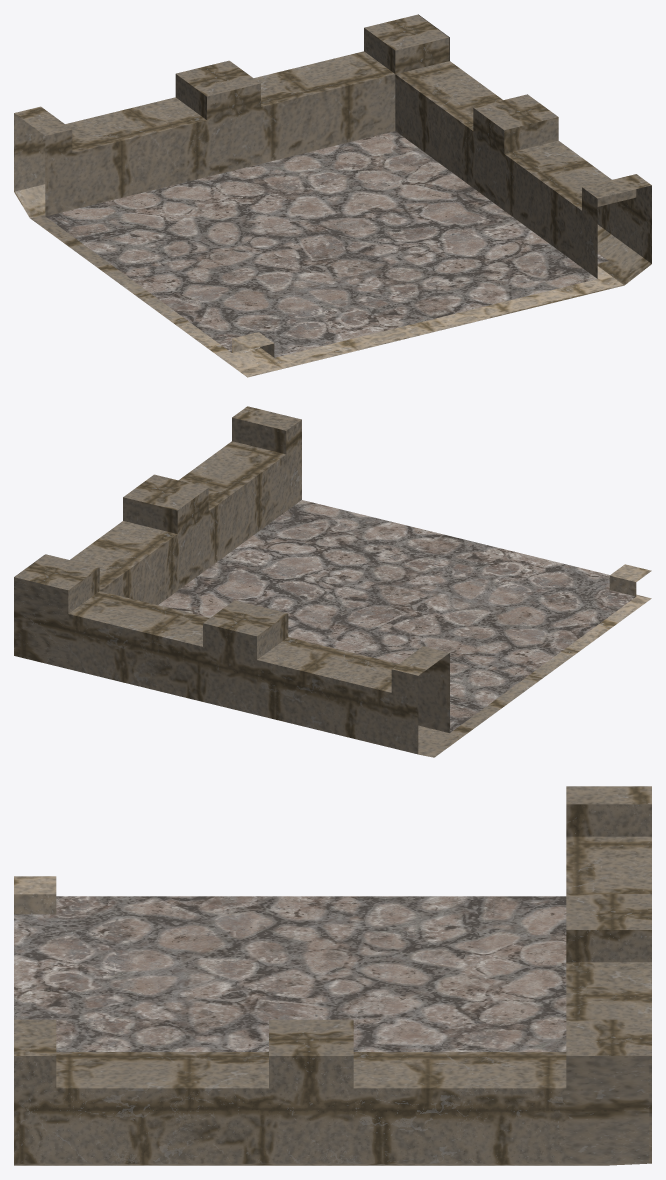
The model's file is ModuleRoofCorner.fbx.
3 views of the same model, one above another, from view 1: azimuth 30°, elevation 25°; view 2: azimuth 150°, elevation 25°; view 3: azimuth 270°, elevation 25° (orthographic). The views are drawn at different scales.
Parts seen in each view (by area): view 1: ModuleRoofFloorTileCorner, ModuleRoofCorner, ModuleRoofFloorEdgeCorner; view 2: ModuleRoofCorner, ModuleRoofFloorTileCorner, ModuleRoofFloorEdgeCorner; view 3: ModuleRoofCorner, ModuleRoofFloorTileCorner.
Boxes of the visible parts, bbox=[...] form: ModuleRoofFloorTileCorner: bbox=[45, 131, 608, 357]; ModuleRoofCorner: bbox=[14, 14, 651, 357]; ModuleRoofFloorEdgeCorner: bbox=[30, 214, 623, 377]; ModuleRoofCorner: bbox=[14, 406, 651, 756]; ModuleRoofFloorTileCorner: bbox=[158, 500, 635, 732]; ModuleRoofFloorEdgeCorner: bbox=[418, 594, 651, 757]; ModuleRoofCorner: bbox=[14, 786, 651, 1165]; ModuleRoofFloorTileCorner: bbox=[14, 896, 566, 1051].
Size of the model in its own units: 322 by 71.12 by 322.
